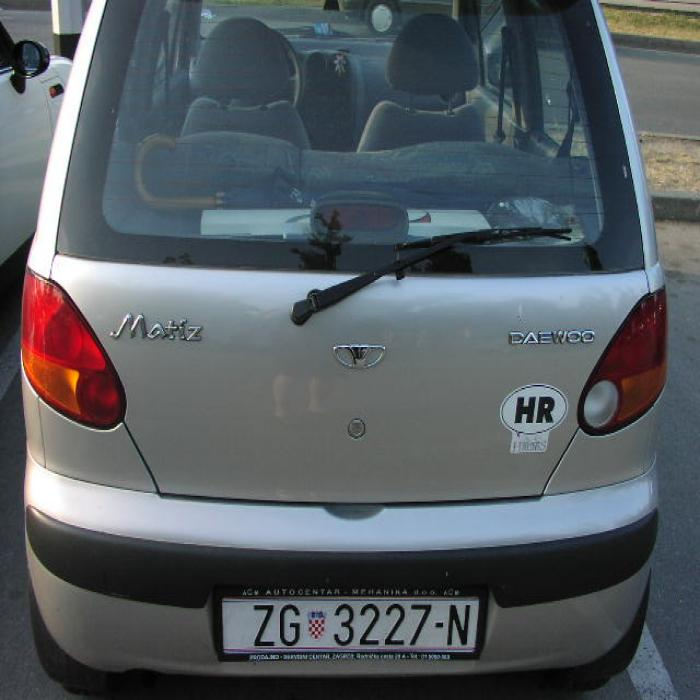number_plate: (220, 599, 476, 649)
